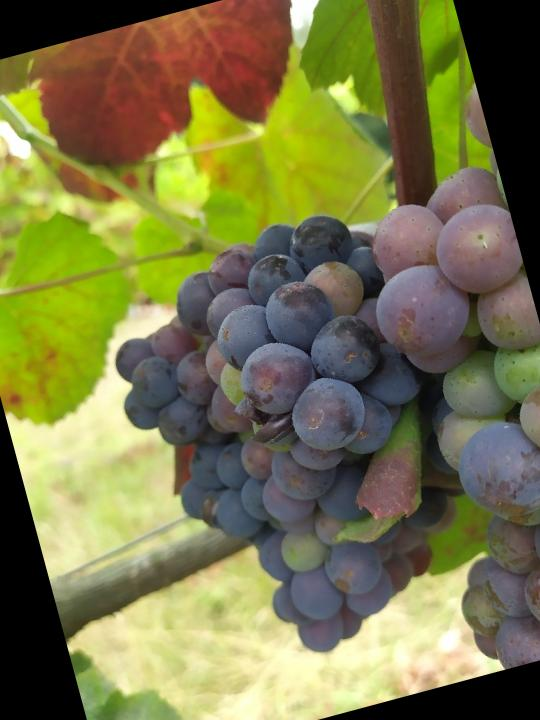grape: (83, 182, 523, 692)
